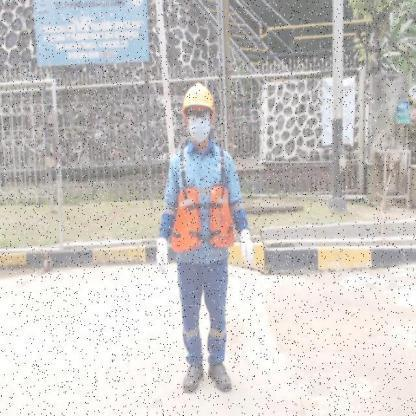boots: (206, 360, 234, 394), (181, 360, 204, 396)
gloves: (237, 228, 256, 269), (154, 236, 170, 277)
goggles: (186, 110, 210, 121)
helmet: (180, 82, 218, 113)
mask: (189, 120, 211, 141)
vest: (170, 184, 236, 253)
